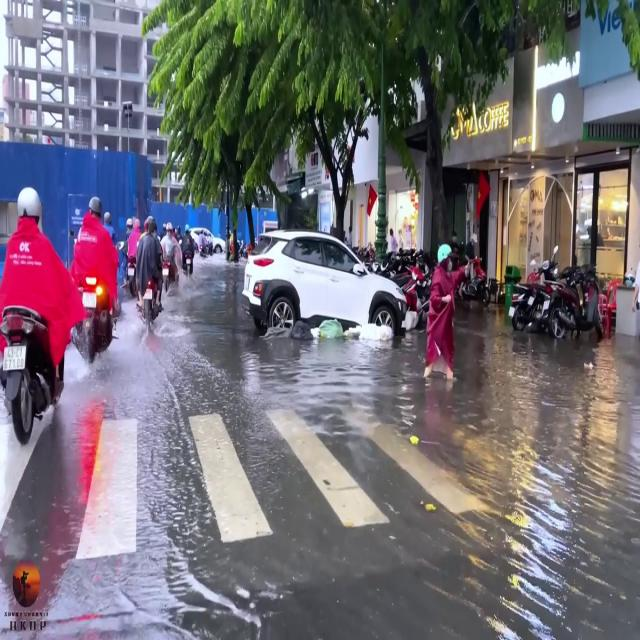bien_trang: (1, 341, 26, 373)
